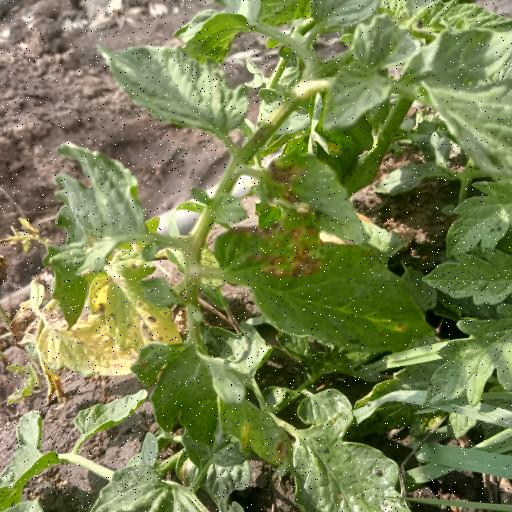Tomato_Brown_Spots: (214, 206, 435, 362)
